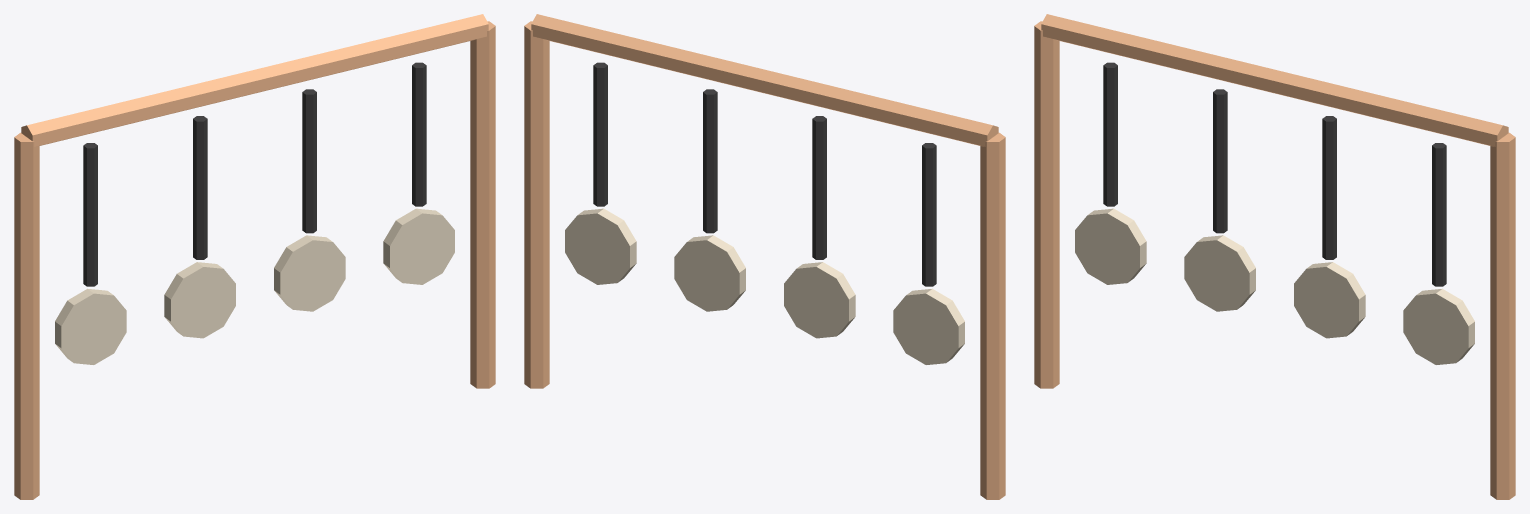
3 renders of one model, left to right at view 1: azimuth 30°, elevation 25°; view 2: azimuth 150°, elevation 25°; view 3: azimuth 330°, elevation 25°, orthographic.
Parts seen in each view (by area): view 1: Crossbar, Post, Post.001, Utensil head.002, Utensil head.001, Utensil head.003, Utensil head, Utensil grip.002, Utensil grip.003, Utensil grip, Utensil grip.001; view 2: Crossbar, Post, Post.001, Utensil head.002, Utensil head.001, Utensil head.003, Utensil head, Utensil grip.002, Utensil grip.003, Utensil grip, Utensil grip.001; view 3: Crossbar, Post.001, Post, Utensil head.001, Utensil head, Utensil head.002, Utensil head.003, Utensil grip.001, Utensil grip, Utensil grip.002, Utensil grip.003.
Part boxes in pixels (x1,y1,x2,y2): Crossbar: [21, 14, 488, 146]; Post: [14, 132, 39, 499]; Post.001: [470, 21, 495, 388]; Utensil head.002: [274, 235, 345, 311]; Utensil head.001: [164, 262, 235, 338]; Utensil head.003: [383, 208, 454, 284]; Utensil head: [55, 288, 126, 364]; Utensil grip.002: [302, 89, 316, 233]; Utensil grip.003: [412, 62, 426, 206]; Utensil grip: [83, 143, 97, 286]; Utensil grip.001: [193, 116, 207, 259]; Crossbar: [531, 14, 998, 146]; Post: [980, 132, 1005, 499]; Post.001: [524, 21, 549, 388]; Utensil head.002: [674, 235, 745, 311]; Utensil head.001: [784, 262, 855, 338]; Utensil head.003: [565, 208, 636, 284]; Utensil head: [893, 288, 964, 364]; Utensil grip.002: [703, 89, 717, 233]; Utensil grip.003: [593, 62, 607, 206]; Utensil grip: [922, 143, 936, 286]; Utensil grip.001: [812, 116, 826, 259]; Crossbar: [1041, 14, 1508, 146]; Post.001: [1490, 132, 1515, 499]; Post: [1034, 21, 1059, 388]; Utensil head.001: [1184, 235, 1255, 311]; Utensil head: [1075, 208, 1146, 284]; Utensil head.002: [1294, 262, 1365, 338]; Utensil head.003: [1403, 288, 1474, 364]; Utensil grip.001: [1213, 89, 1227, 233]; Utensil grip: [1103, 62, 1117, 206]; Utensil grip.002: [1322, 116, 1336, 259]; Utensil grip.003: [1432, 143, 1446, 286].
Size of the model in its own units: 104 by 77.5 by 4.8.
